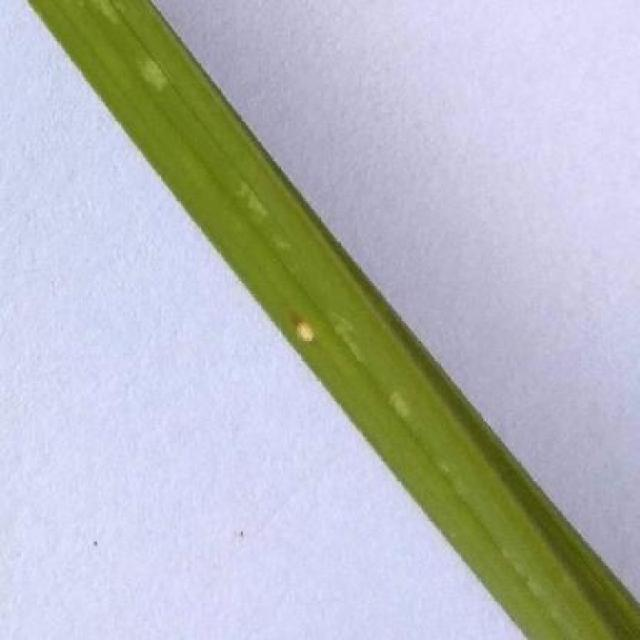Bacterial_Leaf_Blight: (288, 305, 322, 352)
